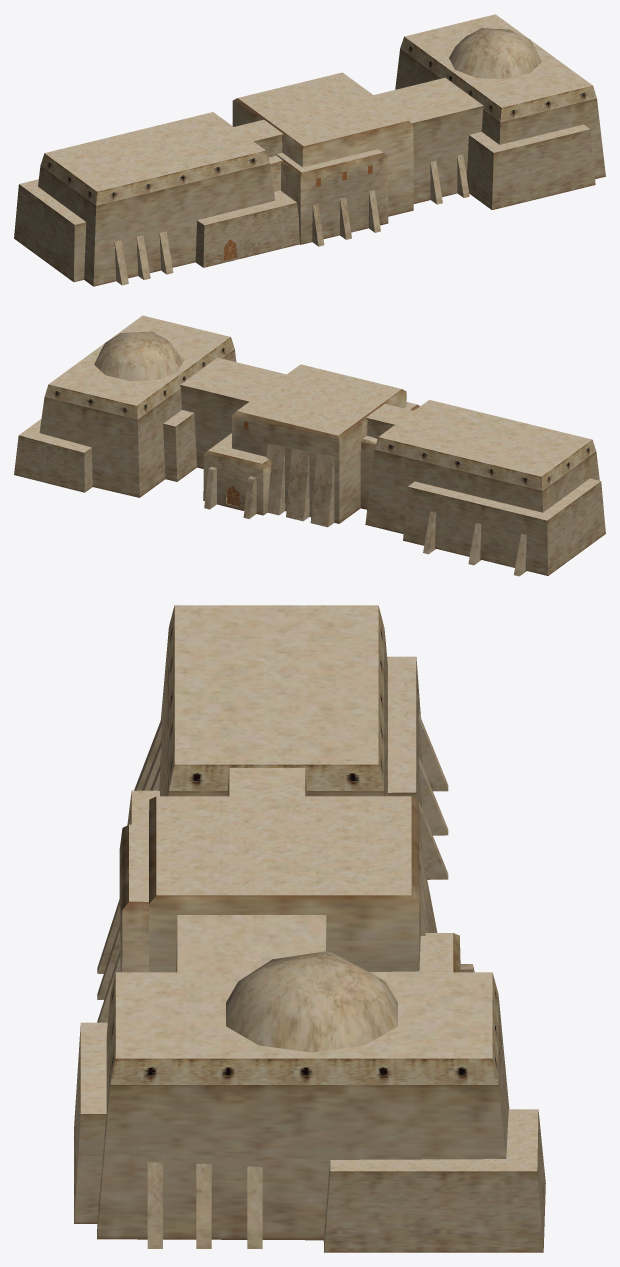
The model's file is thm_tato_block_bldg_64x32_s02_l2.fbx.
The picture shows the model from 3 angles, top to bottom: view 1: azimuth 30°, elevation 25°; view 2: azimuth 150°, elevation 25°; view 3: azimuth 270°, elevation 25°; orthographic projection. The views are drawn at different scales.
Visible parts, largest first — view 1: mesh_node; view 2: mesh_node; view 3: mesh_node.
Boxes of the visible parts, bbox=[...] form: mesh_node: bbox=[14, 14, 605, 286]; mesh_node: bbox=[14, 315, 605, 576]; mesh_node: bbox=[74, 605, 545, 1252].
Bounding box in the file's own units: 77.79 × 17.03 × 31.51.
